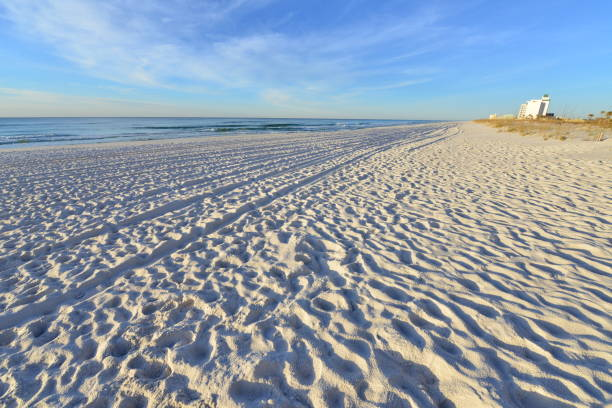vehicle_track: (0, 134, 446, 329), (27, 150, 353, 260), (0, 146, 254, 210), (112, 152, 311, 207), (7, 144, 251, 185), (147, 147, 311, 187), (330, 126, 458, 173), (6, 147, 159, 185), (113, 173, 225, 206)
